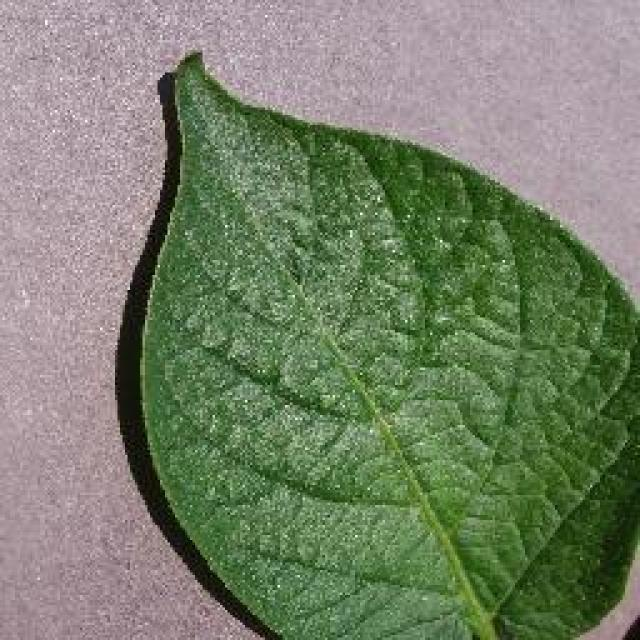Potato___healthy: (140, 46, 638, 638)
